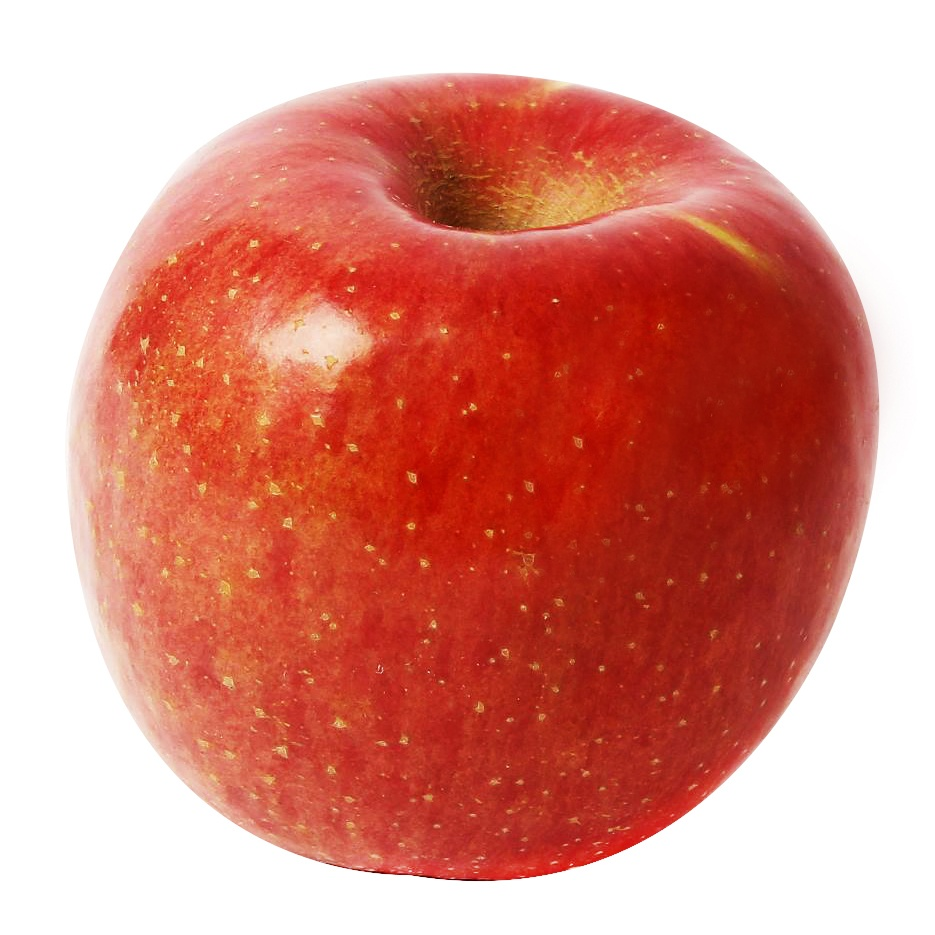apple: (63, 67, 893, 878)
